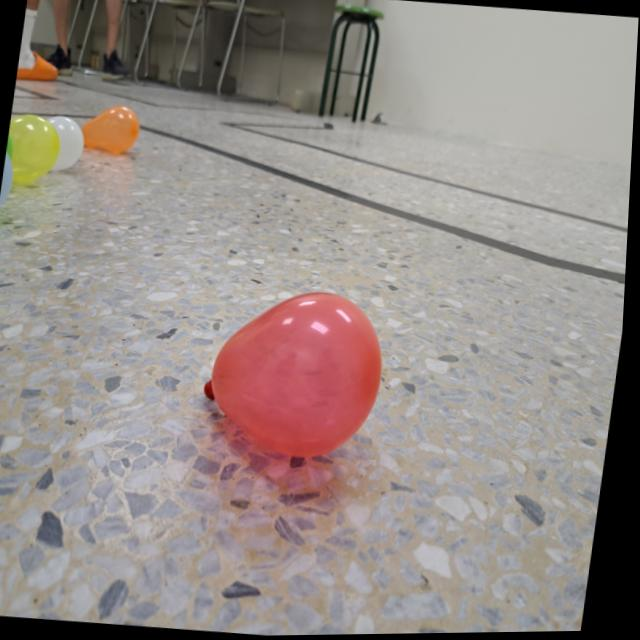other: (3, 112, 64, 189), (80, 103, 143, 156), (45, 114, 91, 174), (0, 148, 19, 210)
red: (198, 282, 398, 465)
